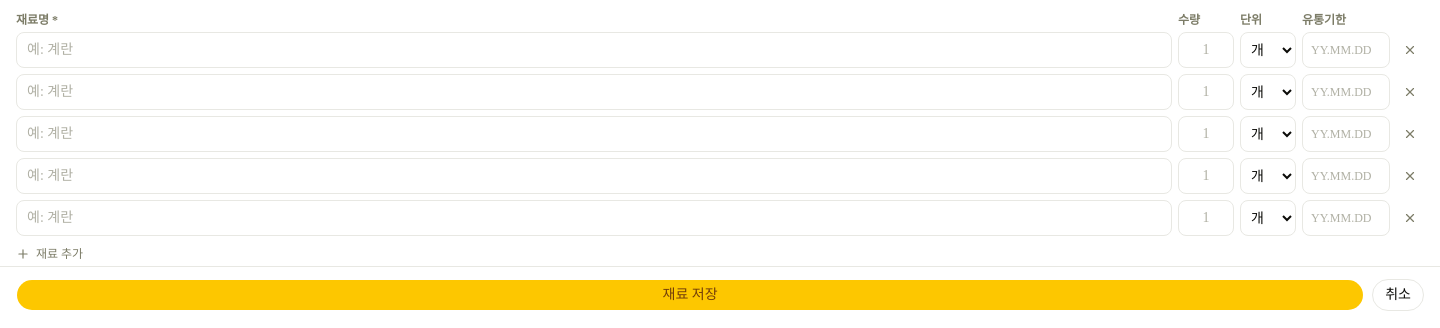
IngredientForm › removes a row when delete button is clicked
This screenshot has width=1440, height=328.
Step 1. Click the 1st button named "행 삭제" → [1410, 50], box [1396, 36, 1424, 64]
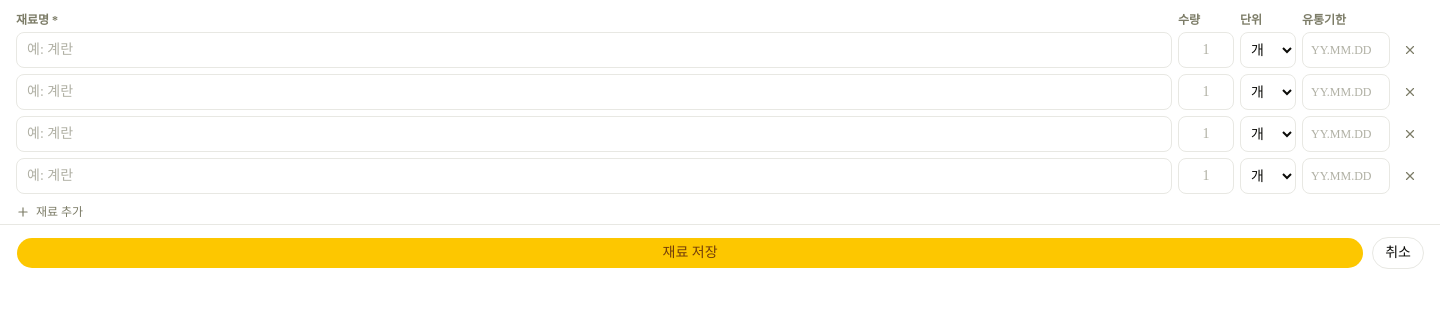
Expected: the number of fields named "재료명" is 4, [16, 32, 1172, 68]; [16, 74, 1172, 110]; [16, 116, 1172, 152]; [16, 158, 1172, 194]
